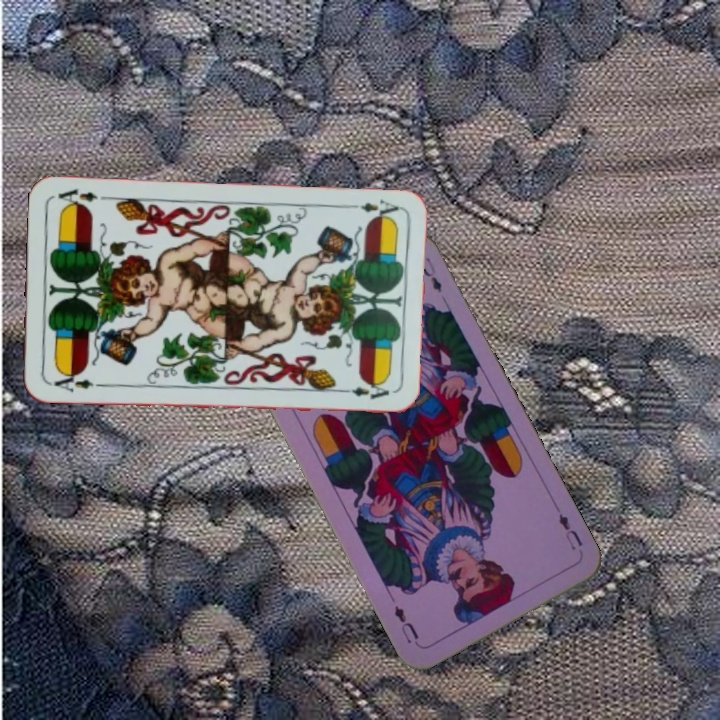EA: (46, 368, 105, 395), (343, 195, 401, 222)
EU: (554, 509, 585, 553)
